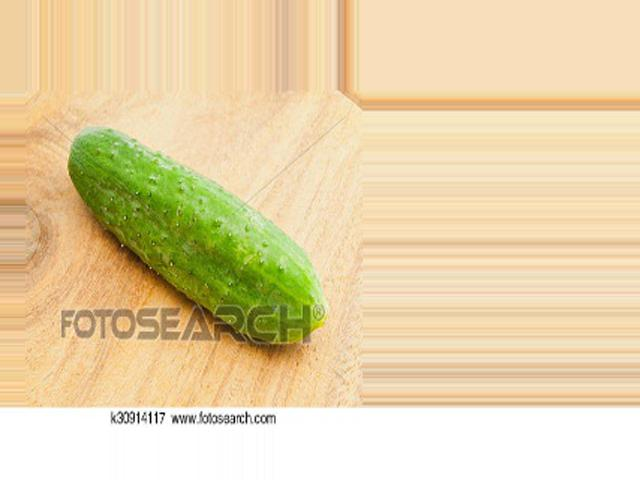cucumber: (67, 126, 328, 347)
